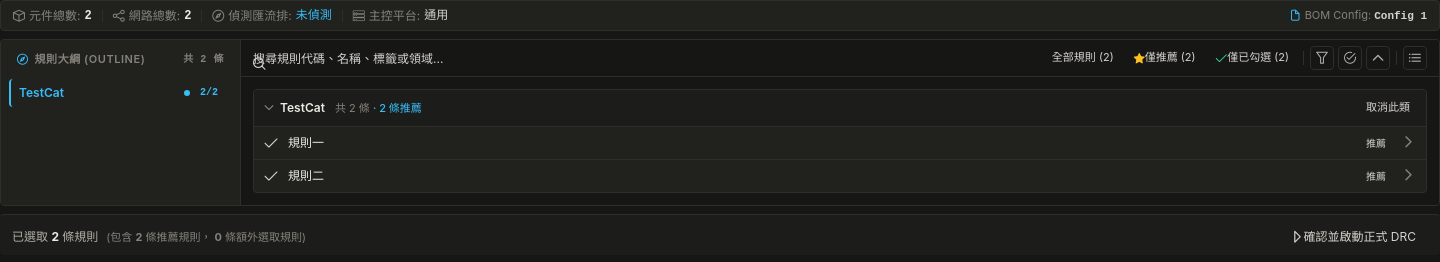
Test: RuleTreeSelector.vue › 支援點選全選按鈕切換勾選狀態
Click the button named "取消全選" at (1322, 58), box [1310, 46, 1334, 70]
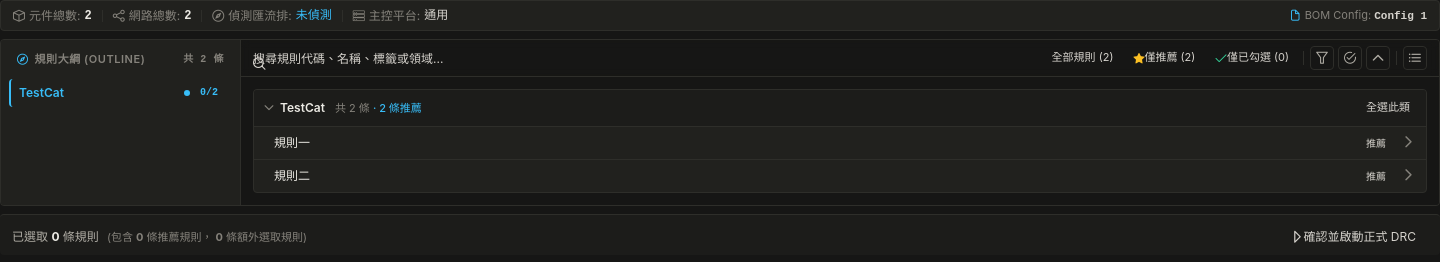
Expected: the text "已選取 0 條規則" is shown, [12, 229, 99, 245]
